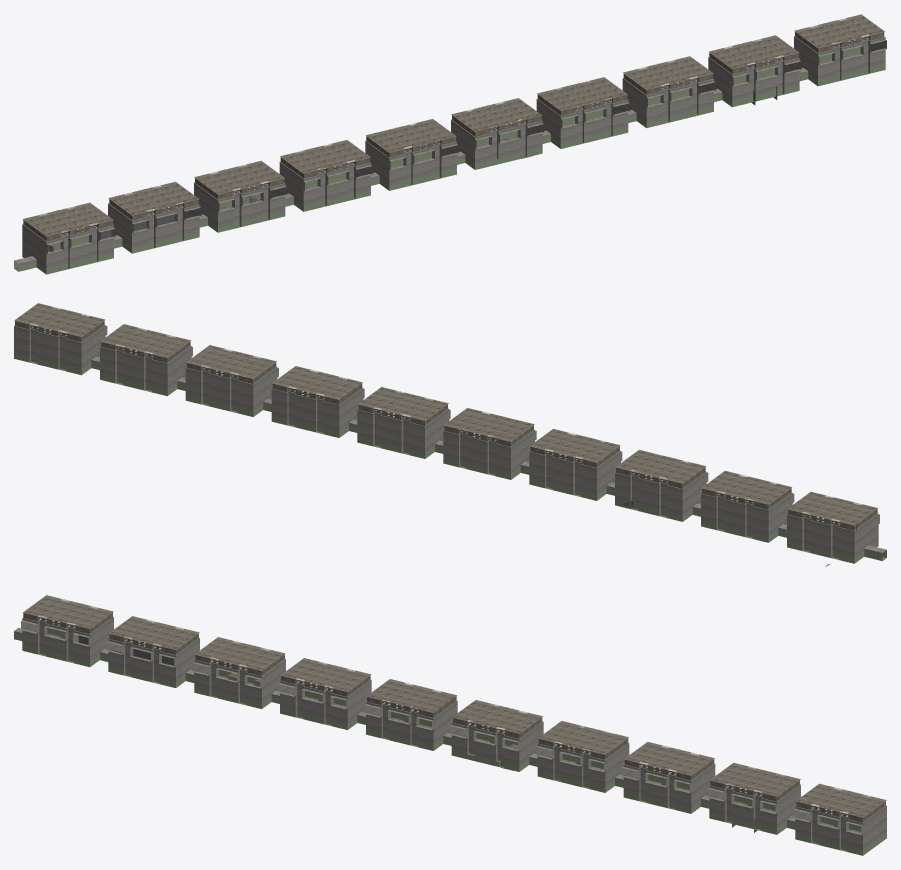
The model's file is env.fbx.
The picture shows the model from 3 angles, top to bottom: view 1: azimuth 30°, elevation 25°; view 2: azimuth 150°, elevation 25°; view 3: azimuth 330°, elevation 25°; orthographic projection.
Visible parts, largest first — view 1: mesh_74, mesh_68, mesh_64, mesh_67, mesh_70, mesh_71, mesh_76, mesh_72, mesh_69, mesh_73; view 2: mesh_74, mesh_68, mesh_70, mesh_67, mesh_69, mesh_71, mesh_73, mesh_64, mesh_76, mesh_72; view 3: mesh_64, mesh_68, mesh_70, mesh_71, mesh_67, mesh_76, mesh_72, mesh_69, mesh_74, mesh_73.
Boxes of the visible parts, x1,y1,x2,y2 form: mesh_74: [14, 202, 115, 274]; mesh_68: [536, 77, 629, 148]; mesh_64: [794, 14, 886, 86]; mesh_67: [622, 56, 715, 128]; mesh_70: [365, 119, 458, 190]; mesh_71: [279, 140, 372, 211]; mesh_76: [708, 35, 801, 107]; mesh_72: [194, 160, 286, 232]; mesh_69: [451, 98, 543, 169]; mesh_73: [108, 181, 201, 253]; mesh_74: [787, 491, 886, 563]; mesh_68: [271, 366, 364, 437]; mesh_70: [443, 408, 536, 479]; mesh_67: [185, 345, 278, 416]; mesh_69: [357, 387, 450, 458]; mesh_71: [529, 429, 622, 500]; mesh_73: [701, 470, 794, 542]; mesh_64: [14, 303, 107, 375]; mesh_76: [100, 324, 192, 396]; mesh_72: [615, 450, 708, 521]; mesh_64: [787, 783, 886, 855]; mesh_68: [529, 721, 629, 792]; mesh_70: [357, 679, 457, 750]; mesh_71: [271, 658, 371, 729]; mesh_67: [615, 742, 715, 813]; mesh_76: [701, 762, 800, 834]; mesh_72: [185, 637, 285, 708]; mesh_69: [443, 700, 543, 771]; mesh_74: [14, 595, 113, 667]; mesh_73: [100, 616, 199, 687].
Size of the model in its own units: 10560 by 490 by 764.
